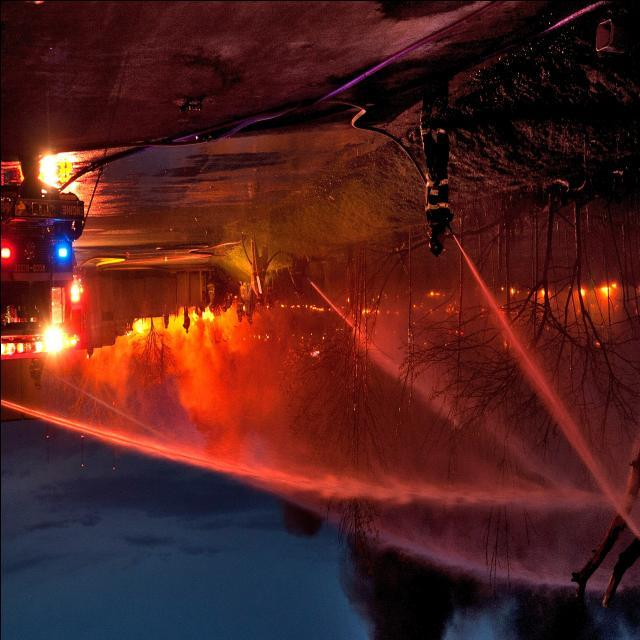Fire: (129, 309, 243, 355), (598, 270, 620, 322), (538, 280, 562, 315), (572, 282, 590, 312), (506, 280, 524, 310)
